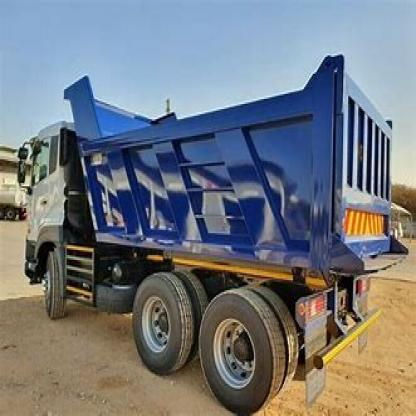dump_truck: (10, 59, 406, 414)
